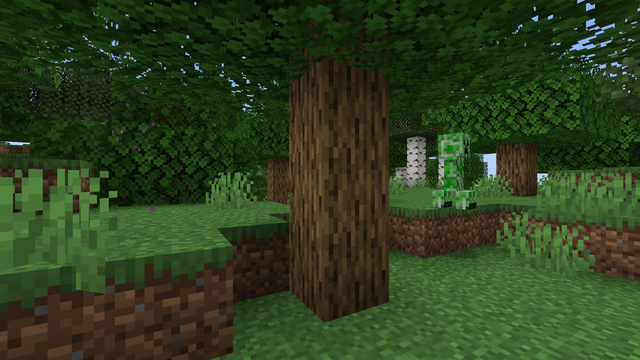creepers: (433, 128, 474, 209)
